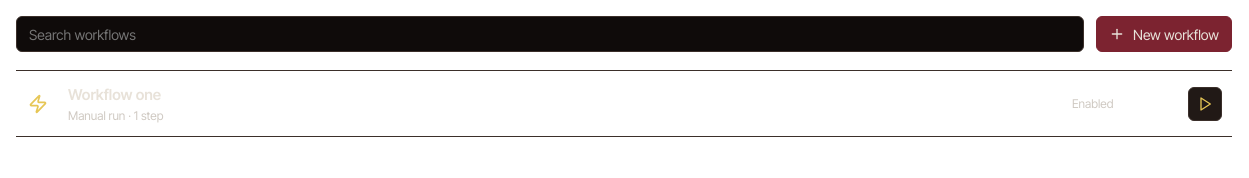
Test: WorkflowLibraryView › removes existing run feedback when a newer workflow revision arrives
Click the button named "Run Workflow one" at (1205, 104), box [1188,86,1222,120]
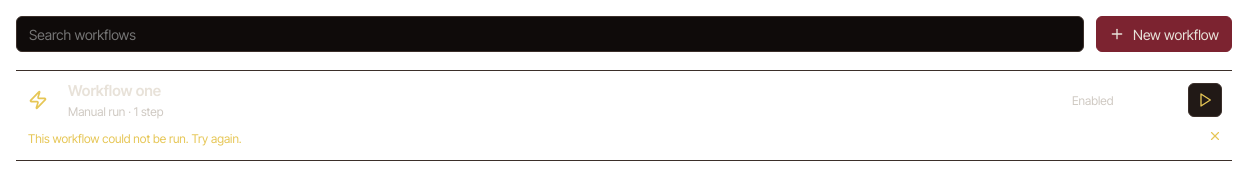
Result: the message "This workflow could not be run. Try again." is shown at [28,127,1224,150]
